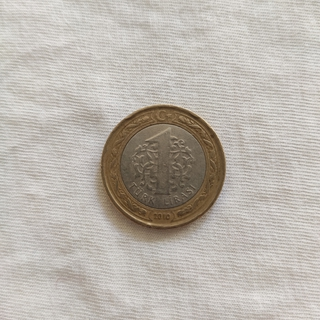1TL: (98, 101, 228, 232)
